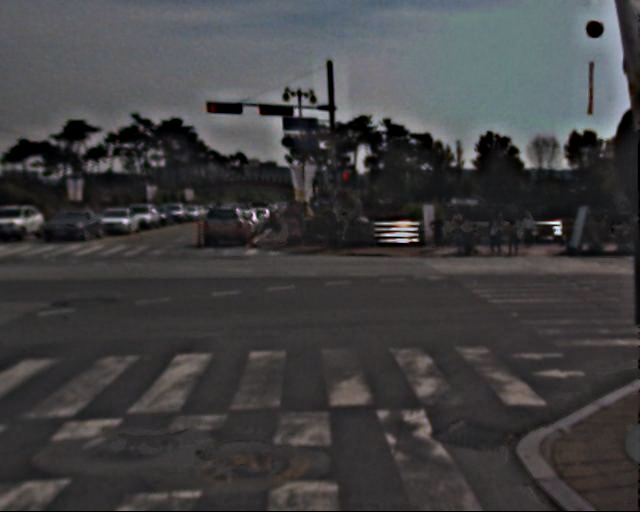person: (267, 202, 311, 242), (453, 209, 473, 257), (324, 204, 343, 251), (507, 215, 525, 258), (488, 216, 505, 258), (521, 209, 538, 251), (433, 212, 450, 253)
